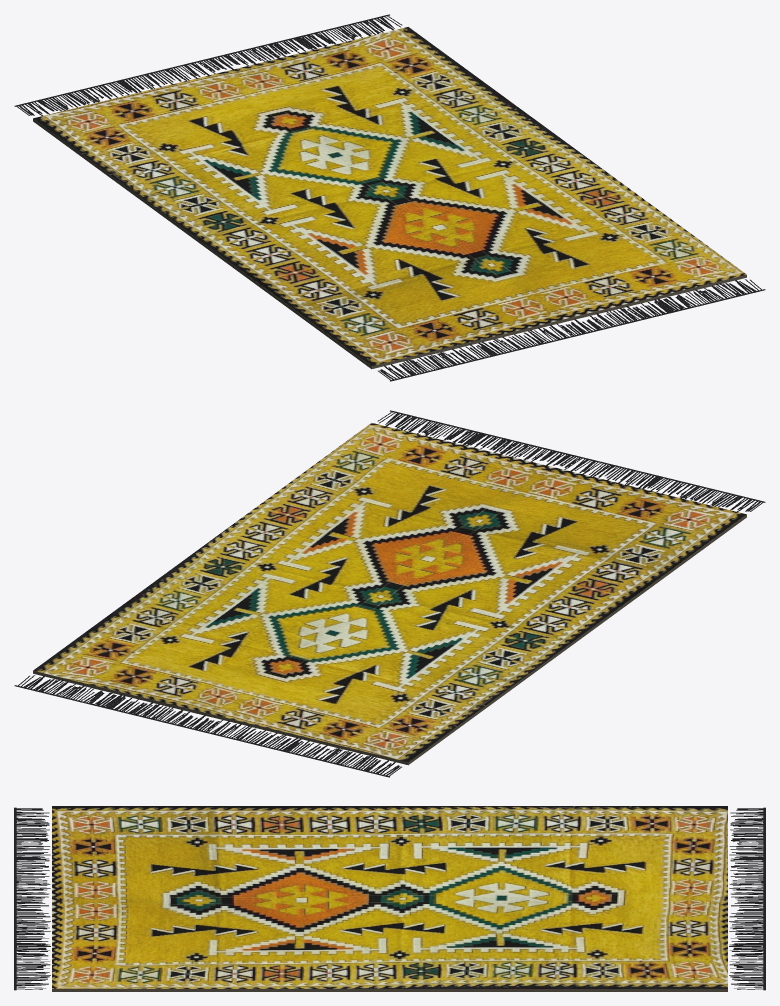
3 renders of one model, top to bottom at view 1: azimuth 30°, elevation 25°; view 2: azimuth 150°, elevation 25°; view 3: azimuth 270°, elevation 25°, orthographic.
Parts seen in each view (by area): view 1: rug, fringeB, fringeA, side; view 2: rug, fringeA, fringeB, side; view 3: rug, fringeA, fringeB, side.
Part boxes in pixels (x1,y1,x2,y2): rug: (33,27,746,366); fringeB: (378,279,765,381); fringeA: (14,14,402,115); side: (33,118,746,369); rug: (33,423,746,762); fringeA: (14,675,401,777); fringeB: (377,410,765,511); side: (33,514,746,765); rug: (52,806,727,988); fringeA: (729,807,765,990); fringeB: (14,807,50,990); side: (52,989,727,991).
Size of what is drawn, in the model's own units: 0.8 by 0.00614 by 1.39.
2 materials, 2 textured.
